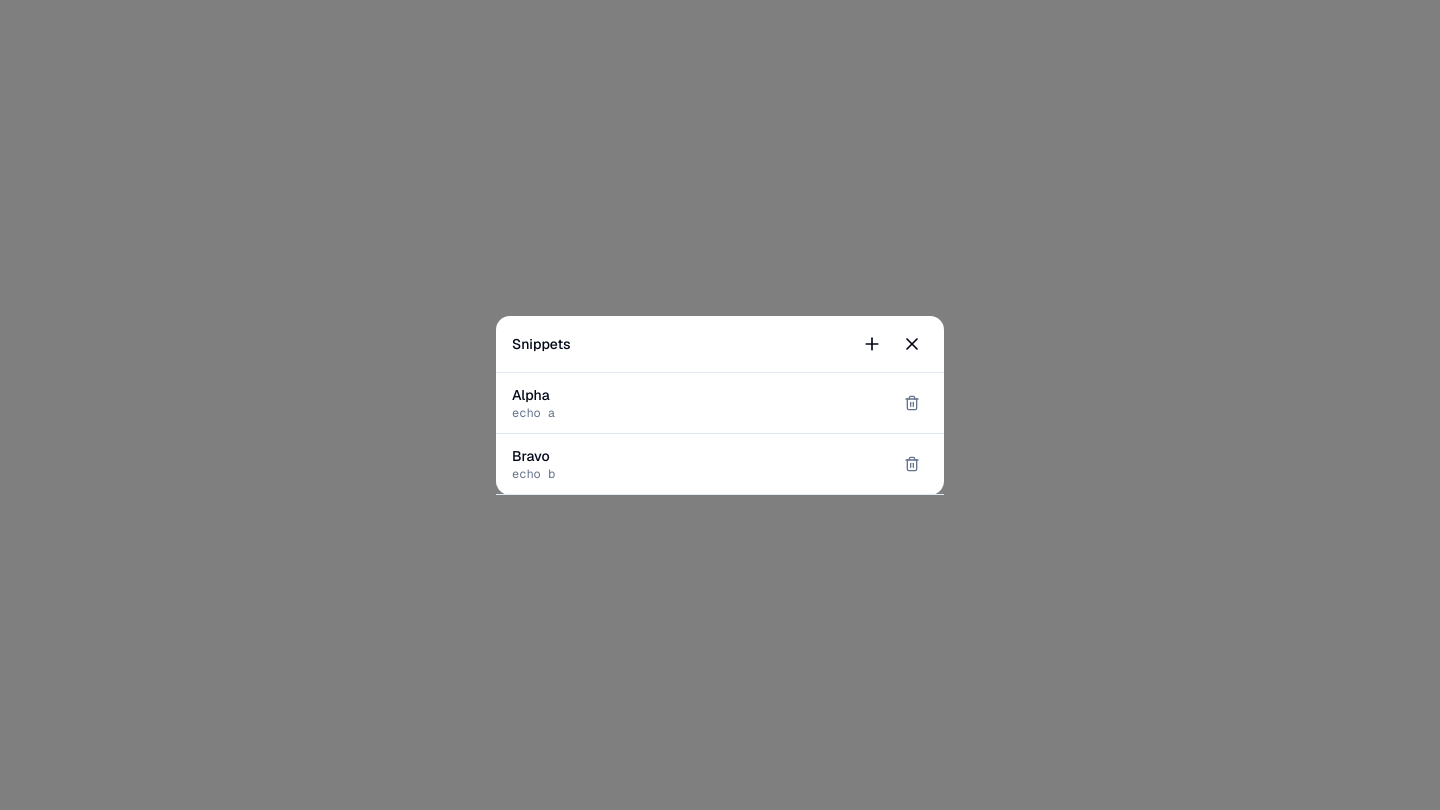
SnippetsModal undo re-sync (#33) › undoing one delete does not resurrect another still-pending delete
What coordinates should you click on to do the following:
click the 4th button
I would click on:
 (912, 402)
Its box is [896,386,928,418].
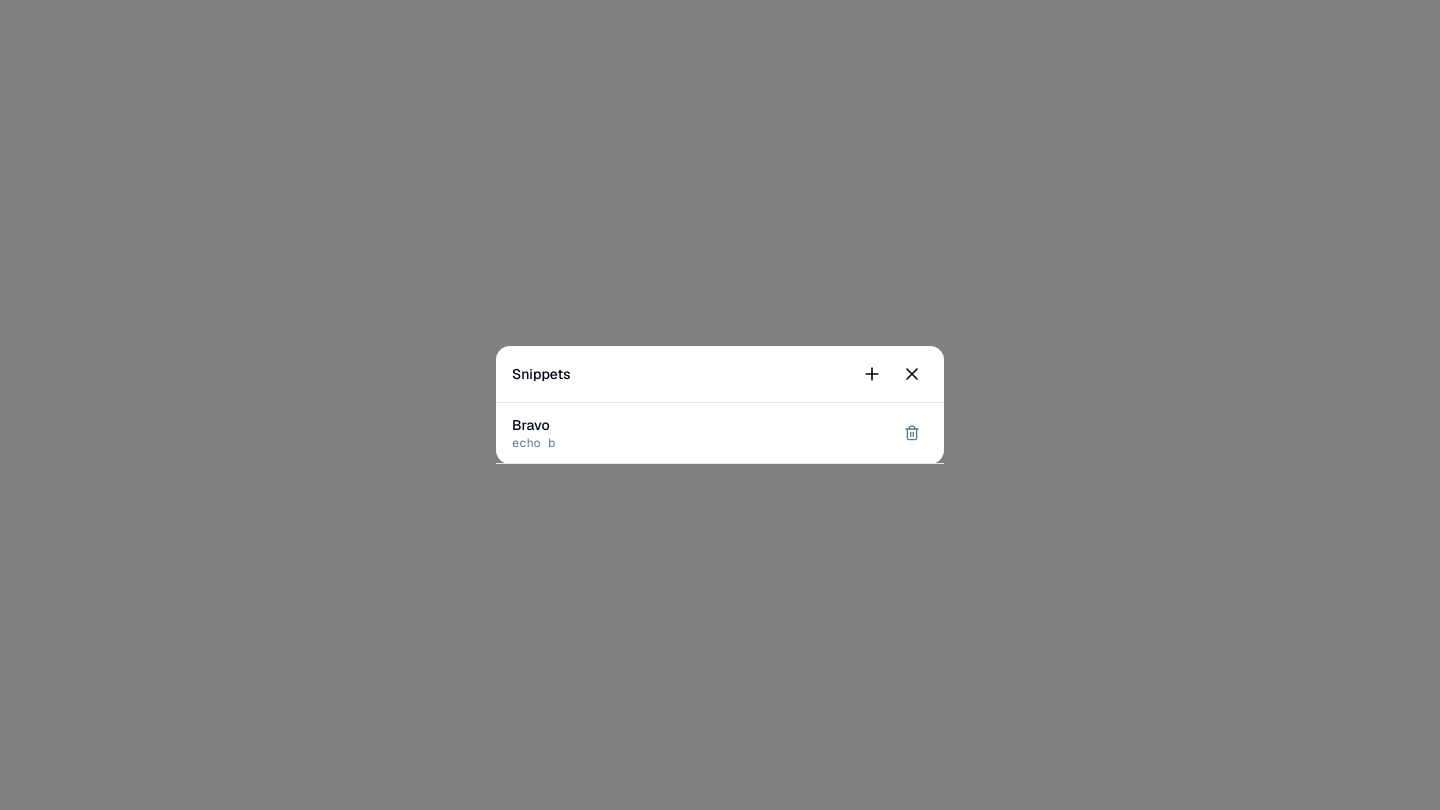
What coordinates should you click on to do the following:
click the 4th button
I would click on:
 (912, 433)
Its box is [896,417,928,449].
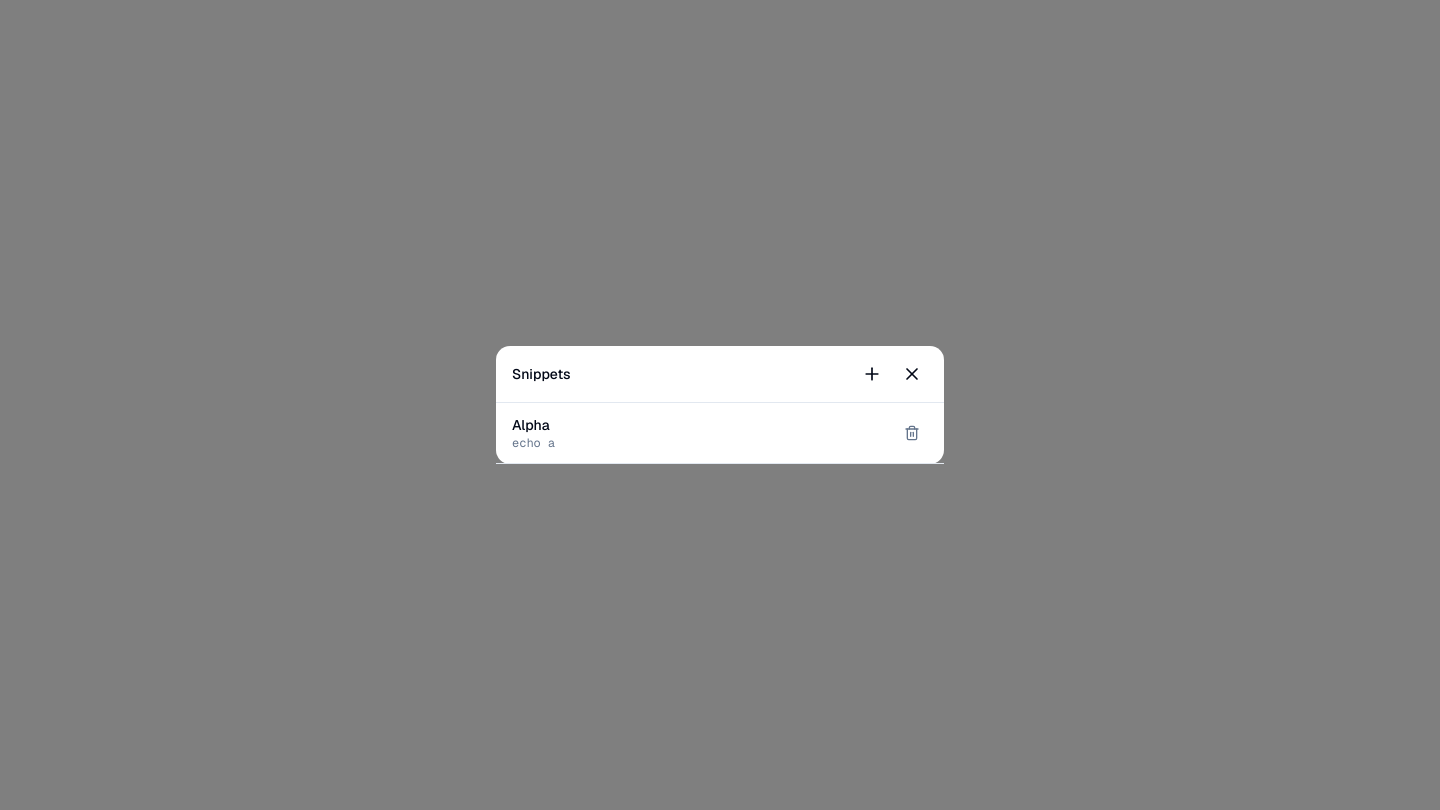
Check: the text "Alpha" is shown, box [512,416,550,434]
Check: the button "Bravo" is gone
